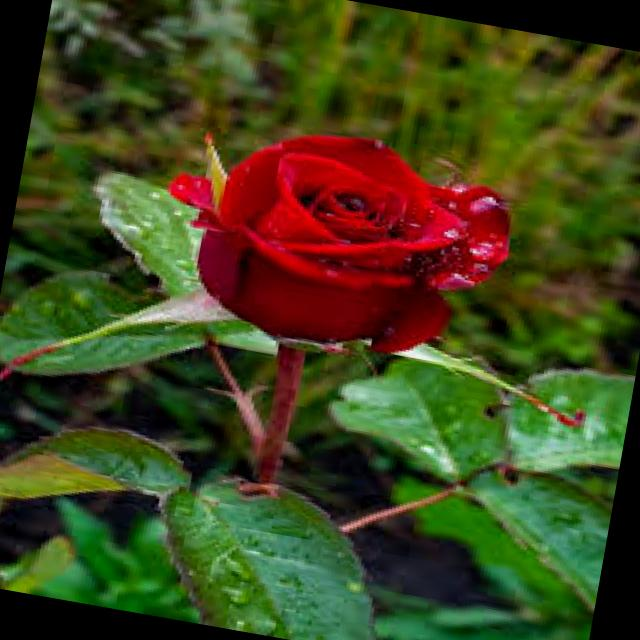rose: (107, 84, 607, 416)
